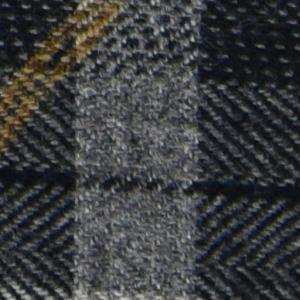Oil Stain: (1, 1, 135, 153)
